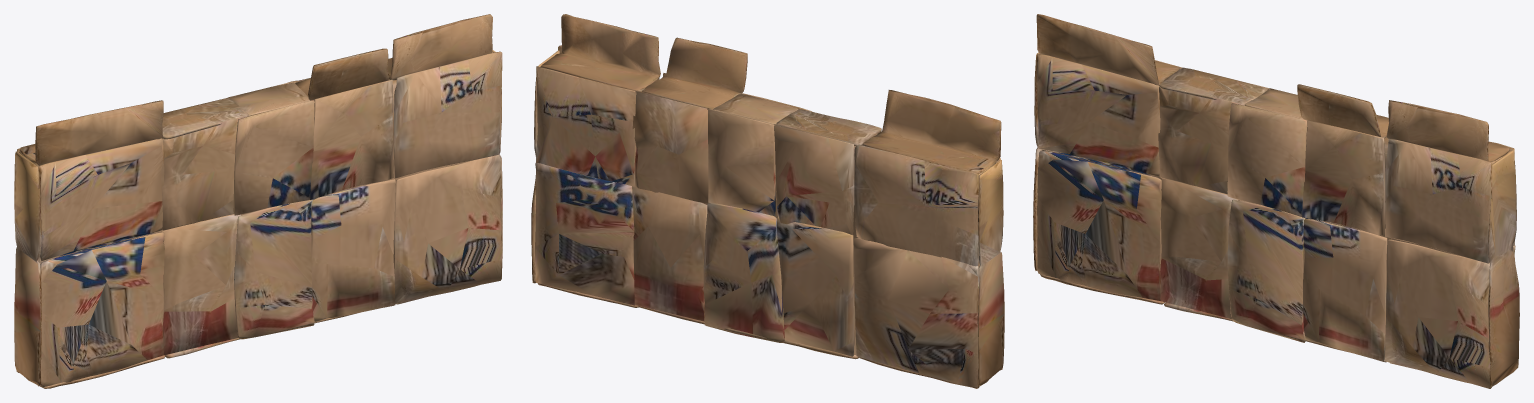
The model's file is cardboard_wall.glb.
3 renders of one model, left to right at view 1: azimuth 30°, elevation 25°; view 2: azimuth 150°, elevation 25°; view 3: azimuth 330°, elevation 25°, orthographic. The views are drawn at different scales.
Visible parts, largest first — view 1: Mesh0; view 2: Mesh0; view 3: Mesh0.
Part boxes in pixels (box(x1,y1,x2,y2)): Mesh0: box(14, 14, 502, 388); Mesh0: box(531, 14, 1004, 388); Mesh0: box(1033, 14, 1519, 388).
Size of the model in its own units: 1 by 0.5523 by 0.1271.
1 material, 1 textured.
